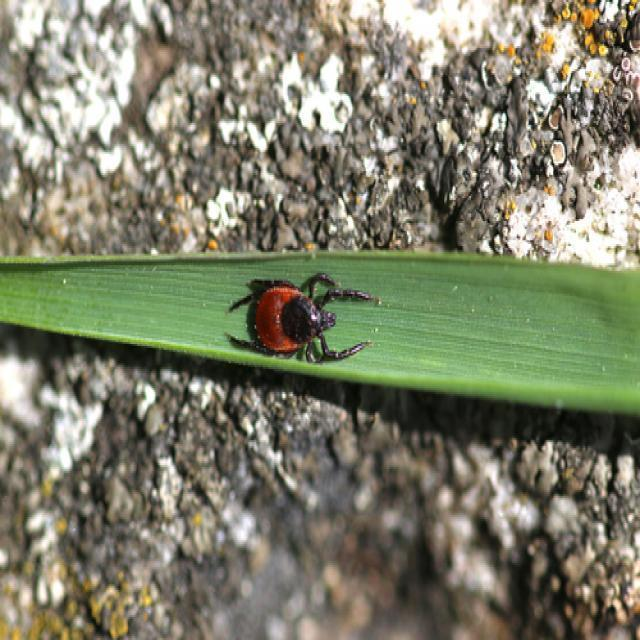Ixodes Ricinus-F: (227, 273, 378, 365)
